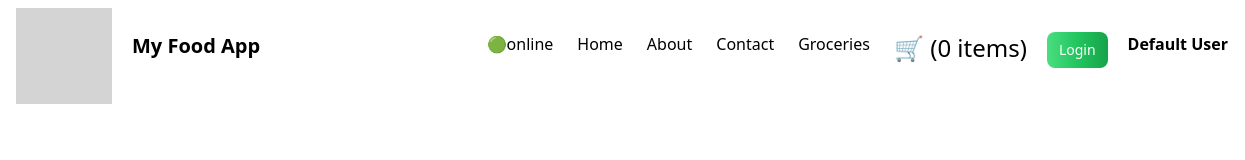
Test: Header test cases › Should change Login button to Logout on Click
Click the button "Login" at (1077, 50), box [1047,32,1108,68]
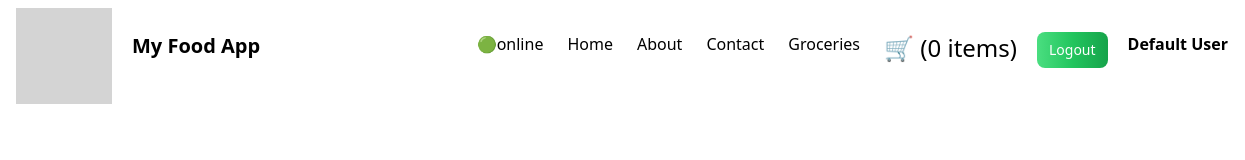
Result: the button "Logout" is shown at [1037,32,1108,68]
